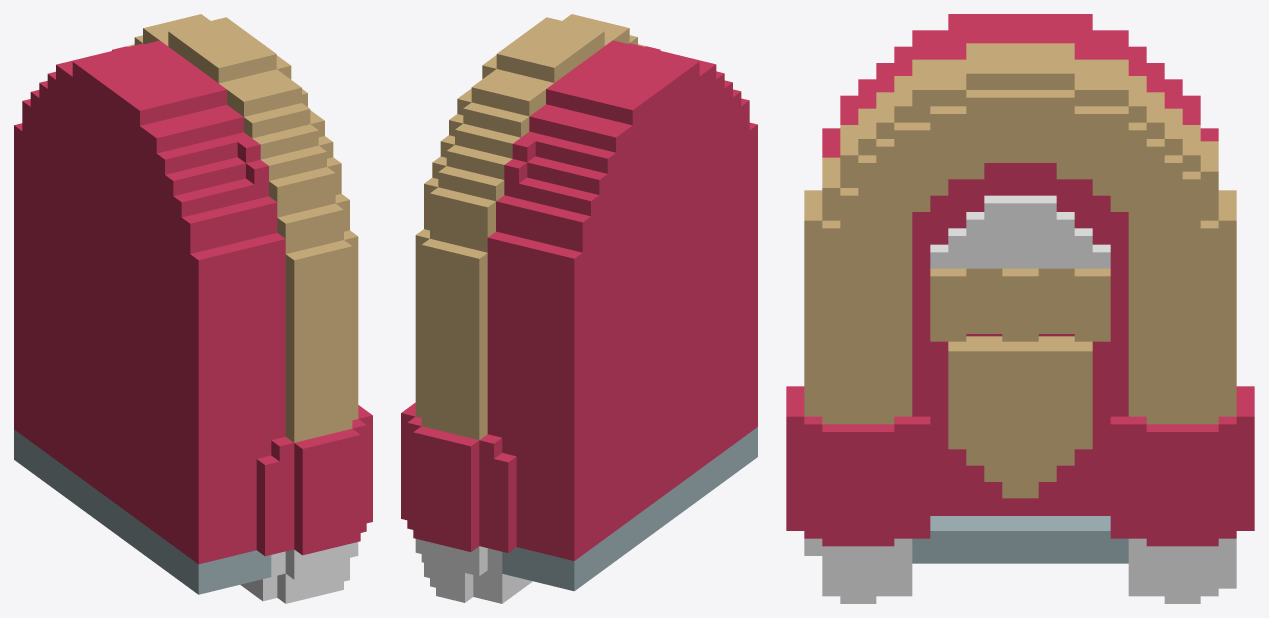
The model's file is Sunken City - Voxel Diner-0-music.obj.
The picture shows the model from 3 angles, left to right: view 1: azimuth 30°, elevation 25°; view 2: azimuth 150°, elevation 25°; view 3: azimuth 270°, elevation 25°; orthographic projection. The views are drawn at different scales.
Parts seen in each view (by area): view 1: music; view 2: music; view 3: music.
Part boxes in pixels (bbox=[...]): music: bbox=[14, 14, 372, 603]; music: bbox=[401, 14, 757, 603]; music: bbox=[786, 14, 1254, 603].
Size of the model in its own units: 1.3 by 3.2 by 2.6.
Materials: 1 (1 with a texture image).
